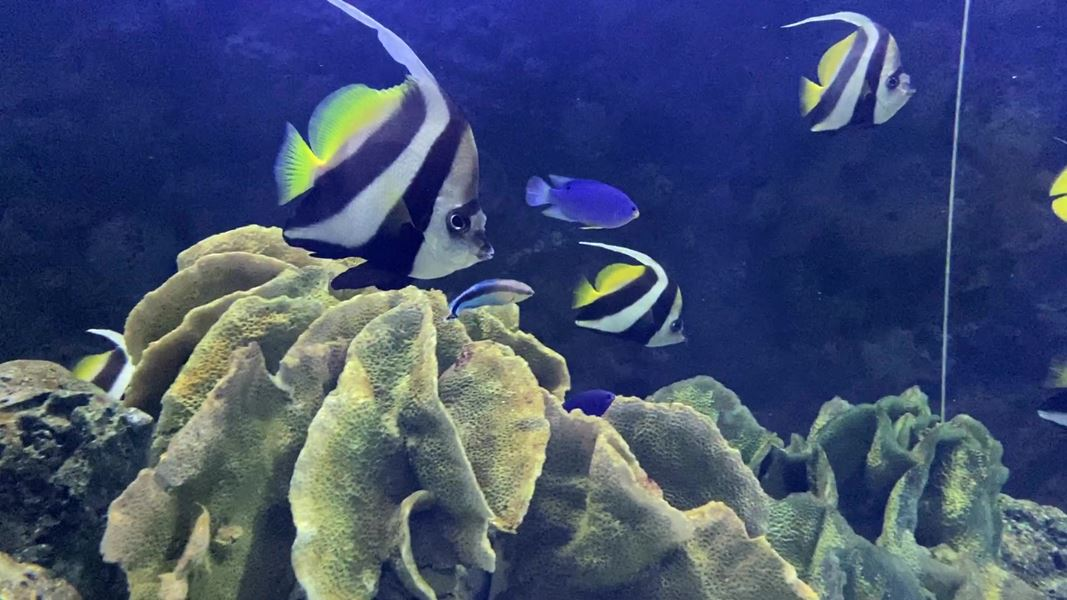Bluesteak cleaner wrasse: (436, 269, 541, 340)
